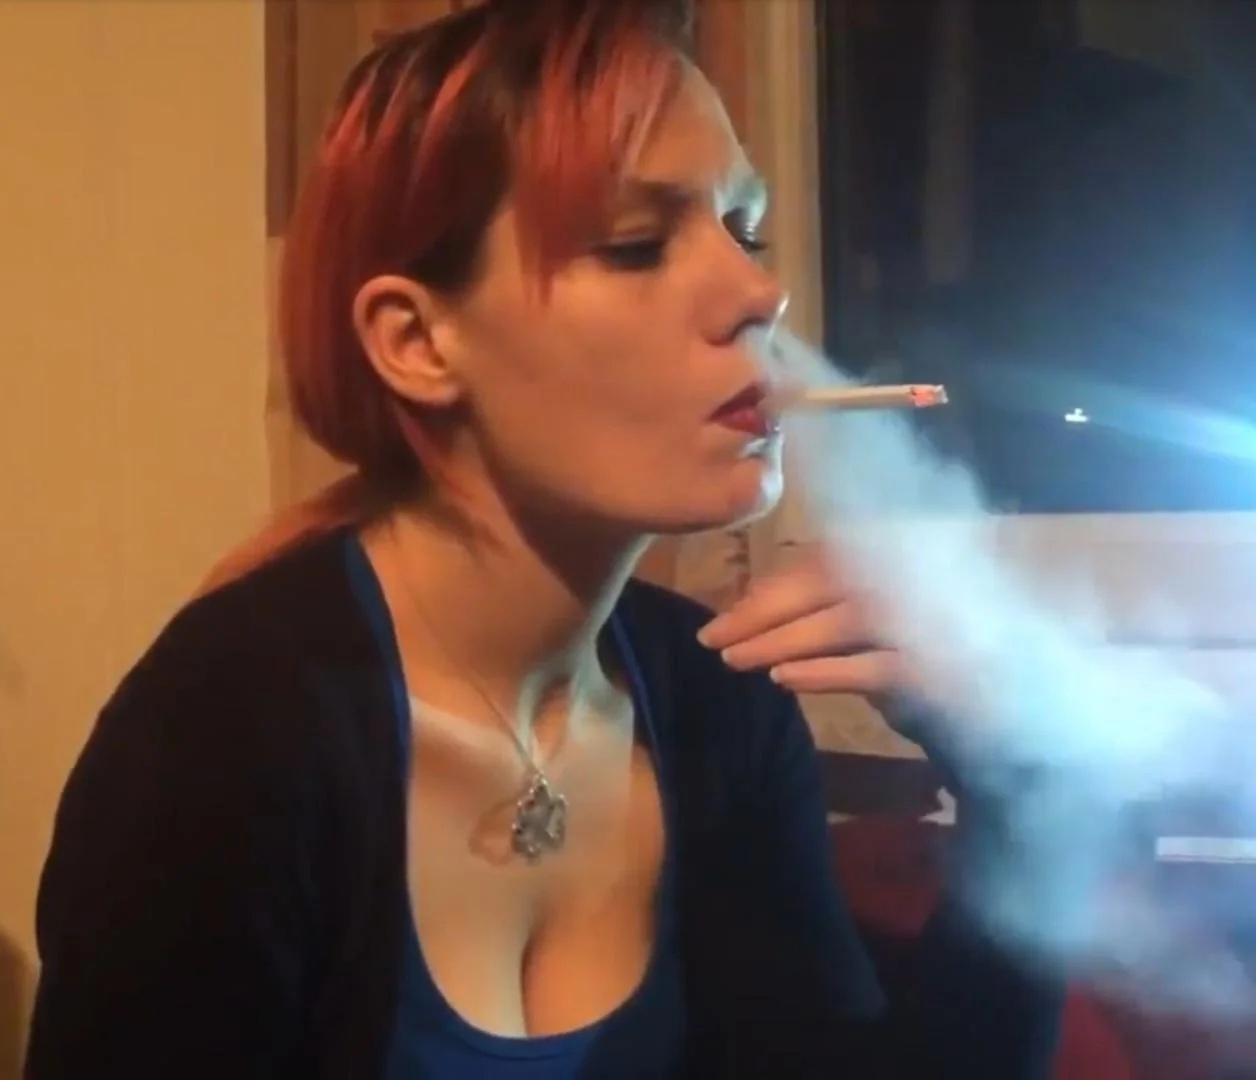cigarette: (754, 384, 949, 417)
